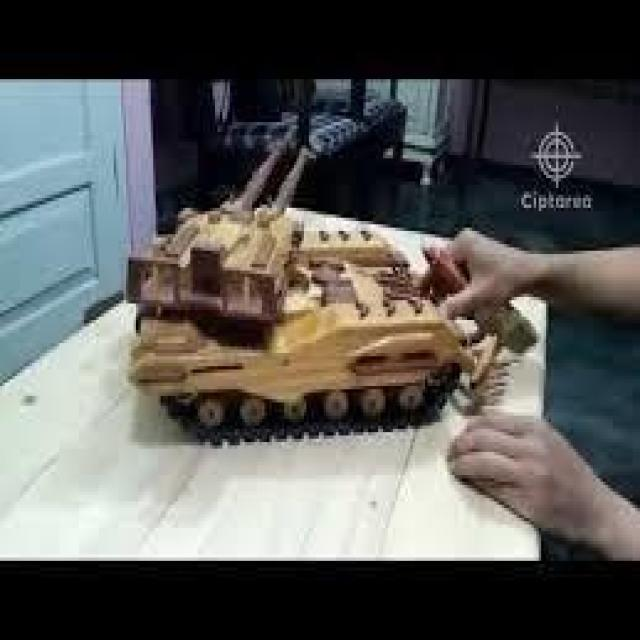Tanks: (121, 112, 521, 518)
